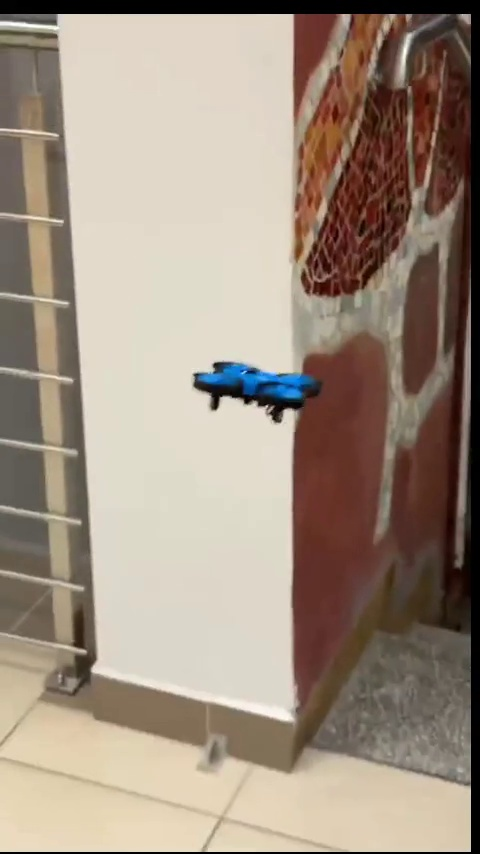drone: (192, 357, 315, 423)
